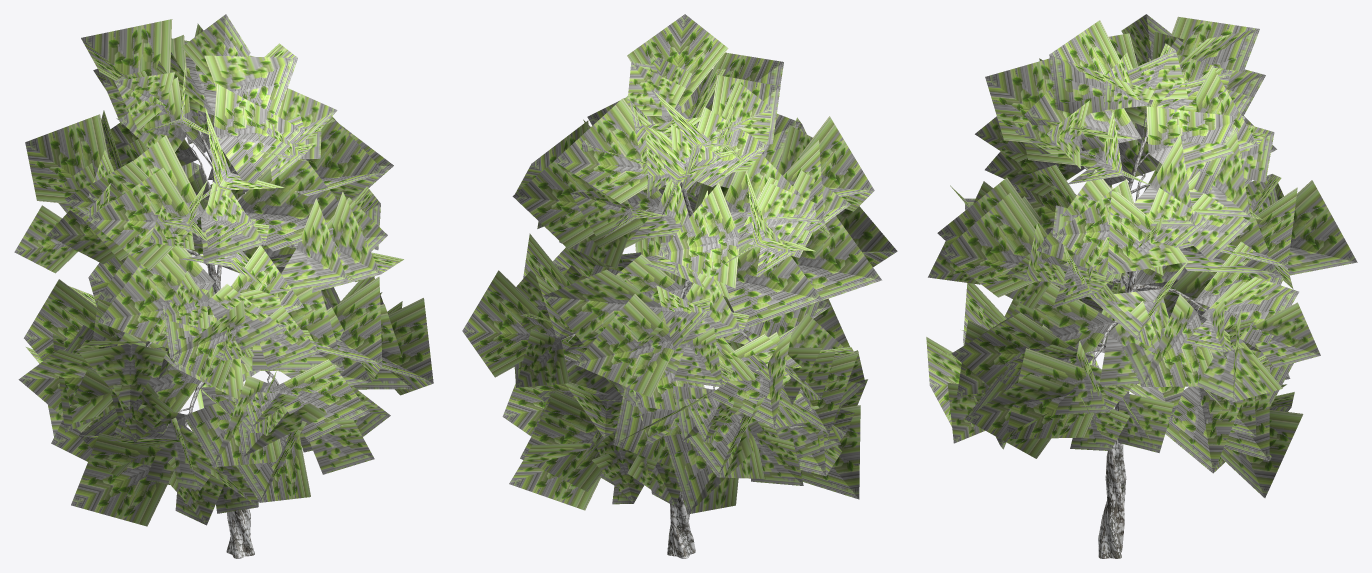
Rendered from birch04.obj.
3 views of the same model, side by side, from view 1: azimuth 30°, elevation 25°; view 2: azimuth 150°, elevation 25°; view 3: azimuth 270°, elevation 25° (orthographic).
Parts seen in each view (by area): view 1: tree; view 2: tree; view 3: tree.
Boxes of the visible parts, <box> form: tree: <box>14,14,433,558</box>; tree: <box>462,14,897,558</box>; tree: <box>926,14,1357,558</box>.
Size of the model in its own units: 167 by 238 by 181.
2 materials, 2 textured.
